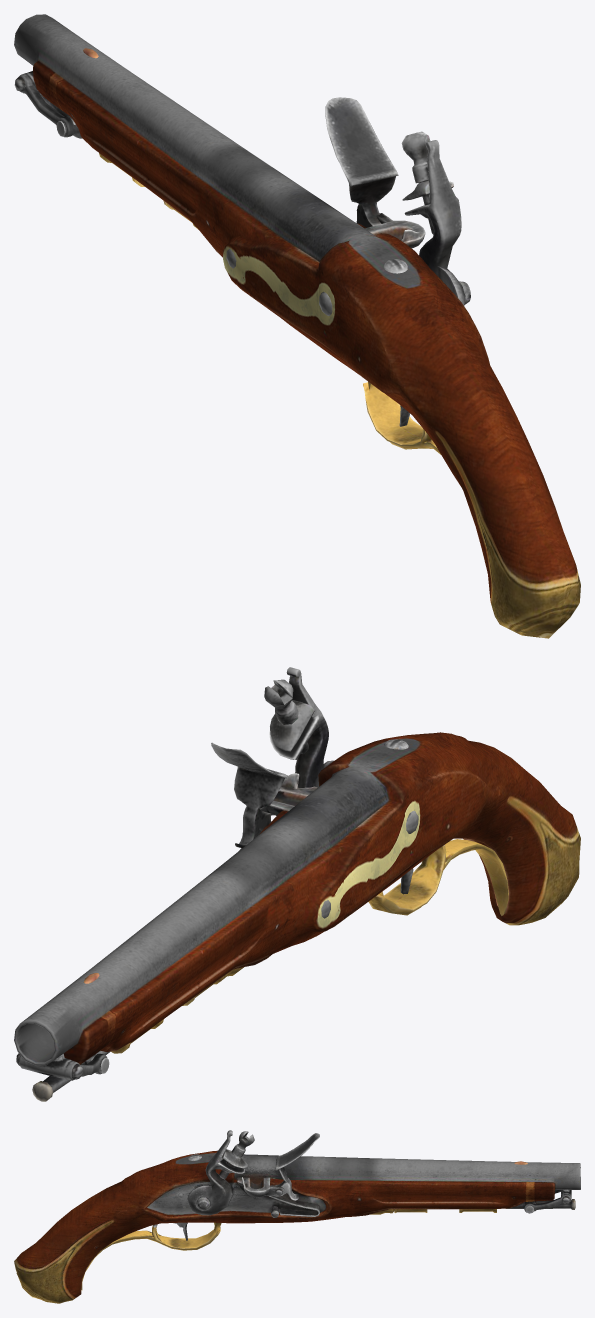
The model's file is Pistol.fbx.
The picture shows the model from 3 angles, top to bottom: view 1: azimuth 30°, elevation 25°; view 2: azimuth 150°, elevation 25°; view 3: azimuth 270°, elevation 25°; orthographic projection. The views are drawn at different scales.
Visible parts, largest first — view 1: Pistol_Separated, Pistol, Pistol_Detail_2, Pistol_Detail_3, Pistol_Detail_1, Pistol_Detail_2_2; view 2: Pistol_Separated, Pistol, Pistol_Detail_2, Pistol_Detail_1, Pistol_Detail_3, Pistol_Detail_2_2; view 3: Pistol_Separated, Pistol_Detail_2, Pistol, Pistol_Detail_1, Pistol_Detail_3, Pistol_Detail_2_2.
Part boxes in pixels (x1,y1,x2,y2): Pistol_Separated: (14, 14, 580, 638); Pistol: (15, 71, 465, 420); Pistol_Detail_2: (402, 140, 465, 305); Pistol_Detail_3: (325, 97, 398, 227); Pistol_Detail_1: (14, 71, 197, 228); Pistol_Detail_2_2: (401, 131, 434, 234); Pistol_Separated: (14, 732, 580, 1065); Pistol: (16, 668, 413, 1101); Pistol_Detail_2: (269, 667, 333, 787); Pistol_Detail_1: (16, 967, 243, 1101); Pistol_Detail_3: (211, 743, 287, 848); Pistol_Detail_2_2: (264, 679, 308, 753); Pistol_Separated: (14, 1150, 580, 1303); Pistol_Detail_2: (187, 1130, 248, 1215); Pistol: (174, 1130, 575, 1233); Pistol_Detail_1: (371, 1189, 575, 1214); Pistol_Detail_3: (275, 1133, 319, 1200); Pistol_Detail_2_2: (219, 1131, 254, 1179).
Size of the model in its own units: 5.48 by 13.08 by 35.62.
1 material, 1 textured.
